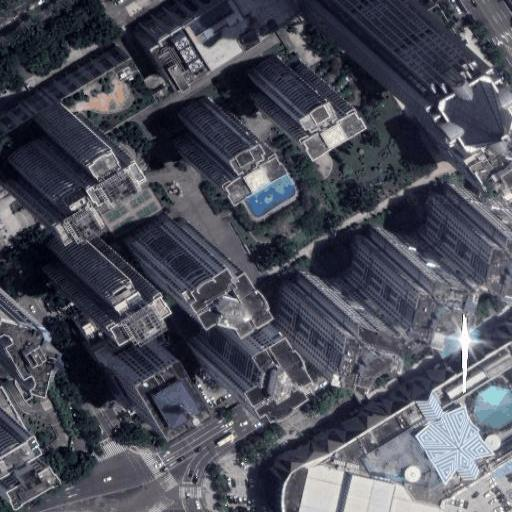building: (278, 180, 501, 337), (0, 57, 155, 178), (135, 0, 283, 76), (5, 101, 102, 204), (200, 303, 269, 391), (126, 220, 215, 287), (95, 320, 170, 399), (417, 95, 500, 162), (47, 229, 115, 297), (177, 94, 243, 158), (253, 52, 320, 114), (81, 296, 138, 345)
